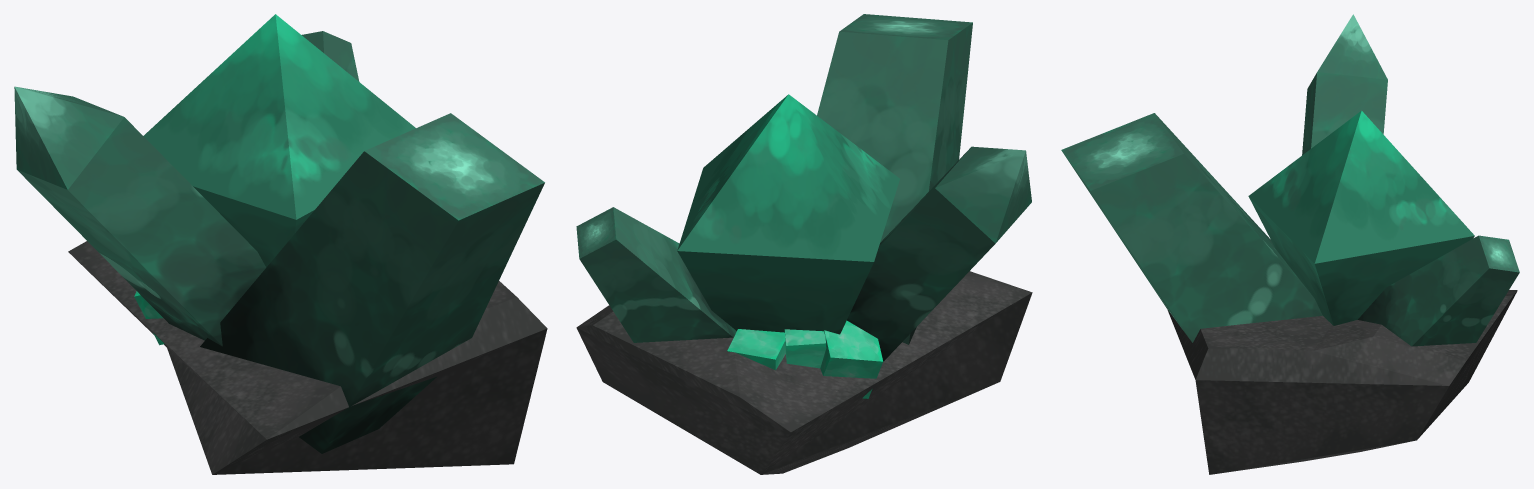
The model's file is Fluorine.glb.
3 views of the same model, side by side, from view 1: azimuth 30°, elevation 25°; view 2: azimuth 150°, elevation 25°; view 3: azimuth 270°, elevation 25° (orthographic). The views are drawn at different scales.
Parts seen in each view (by area): view 1: pCube10, pCube1; view 2: pCube10, pCube1; view 3: pCube10, pCube1.
Boxes of the visible parts, <box> form: pCube10: <box>14,14,544,453</box>; pCube1: <box>68,241,547,474</box>; pCube10: <box>576,14,1031,398</box>; pCube1: <box>576,271,1032,474</box>; pCube10: <box>1061,14,1519,346</box>; pCube1: <box>1167,290,1517,474</box>.
Bounding box in the file's own units: 31.31 × 28.95 × 36.08.
Materials: 2 (2 with a texture image).
